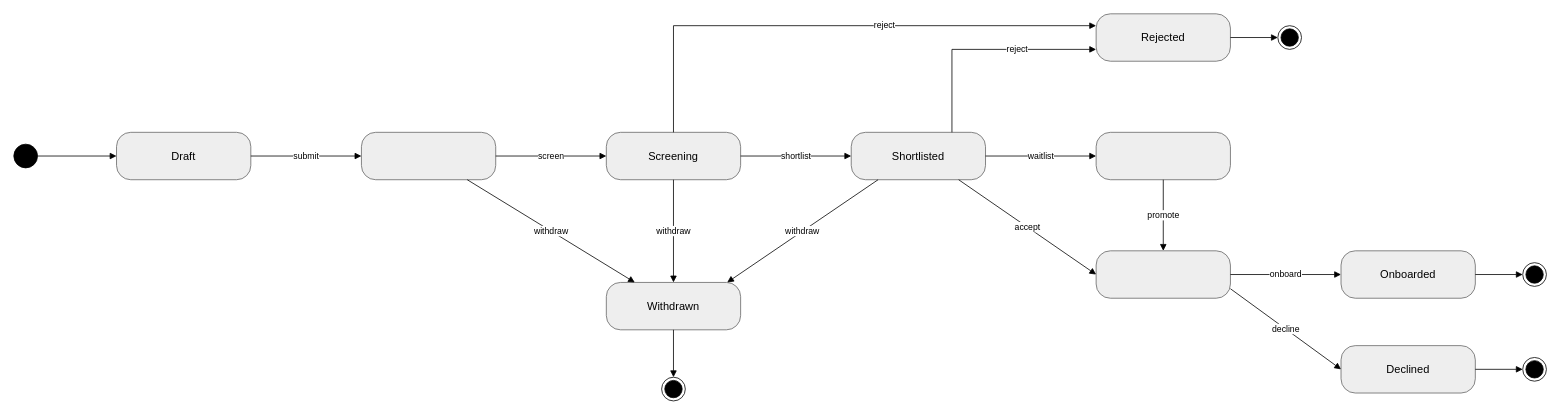
The diagram is 1560 pixels wide and 415 high, and some of its shapes have lost their labels. The box of each missing label's shape, as (x1, y1, x2, y2) in pixels:
Accepted: (1095, 250, 1230, 298)
Submitted: (361, 132, 496, 180)
Waitlisted: (1095, 132, 1230, 180)
